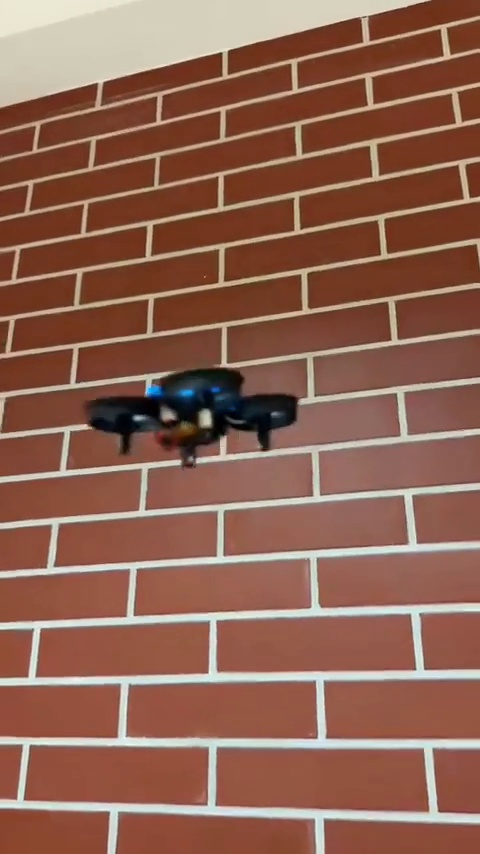drone: (82, 366, 296, 470)
